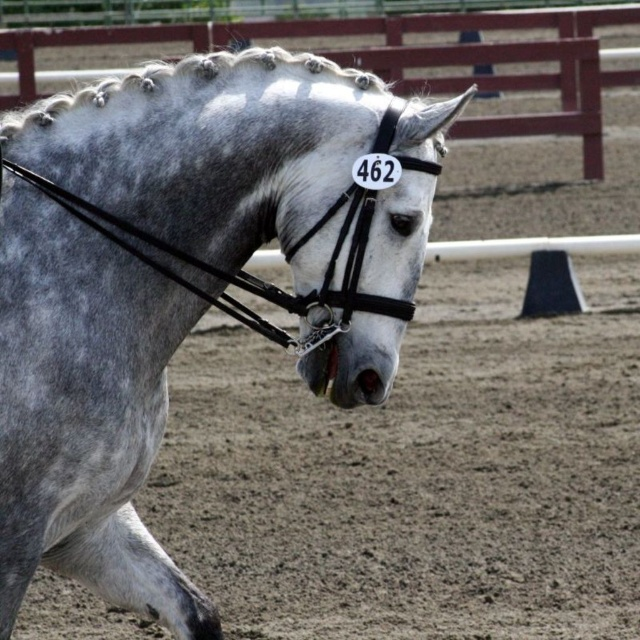Horse: (0, 48, 478, 639)
